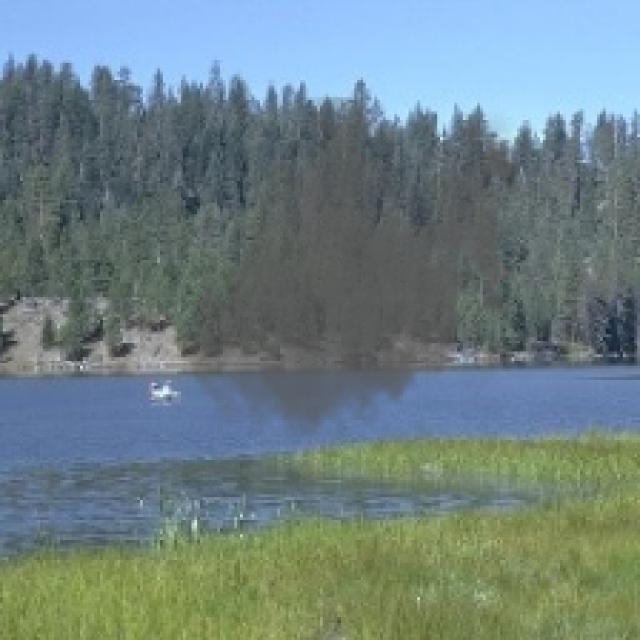Smoke: (177, 97, 532, 454)
